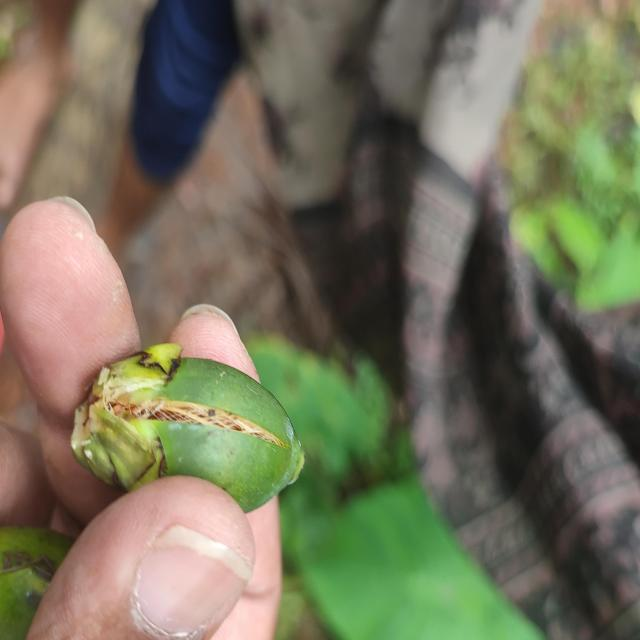damaged: (69, 344, 306, 516)
